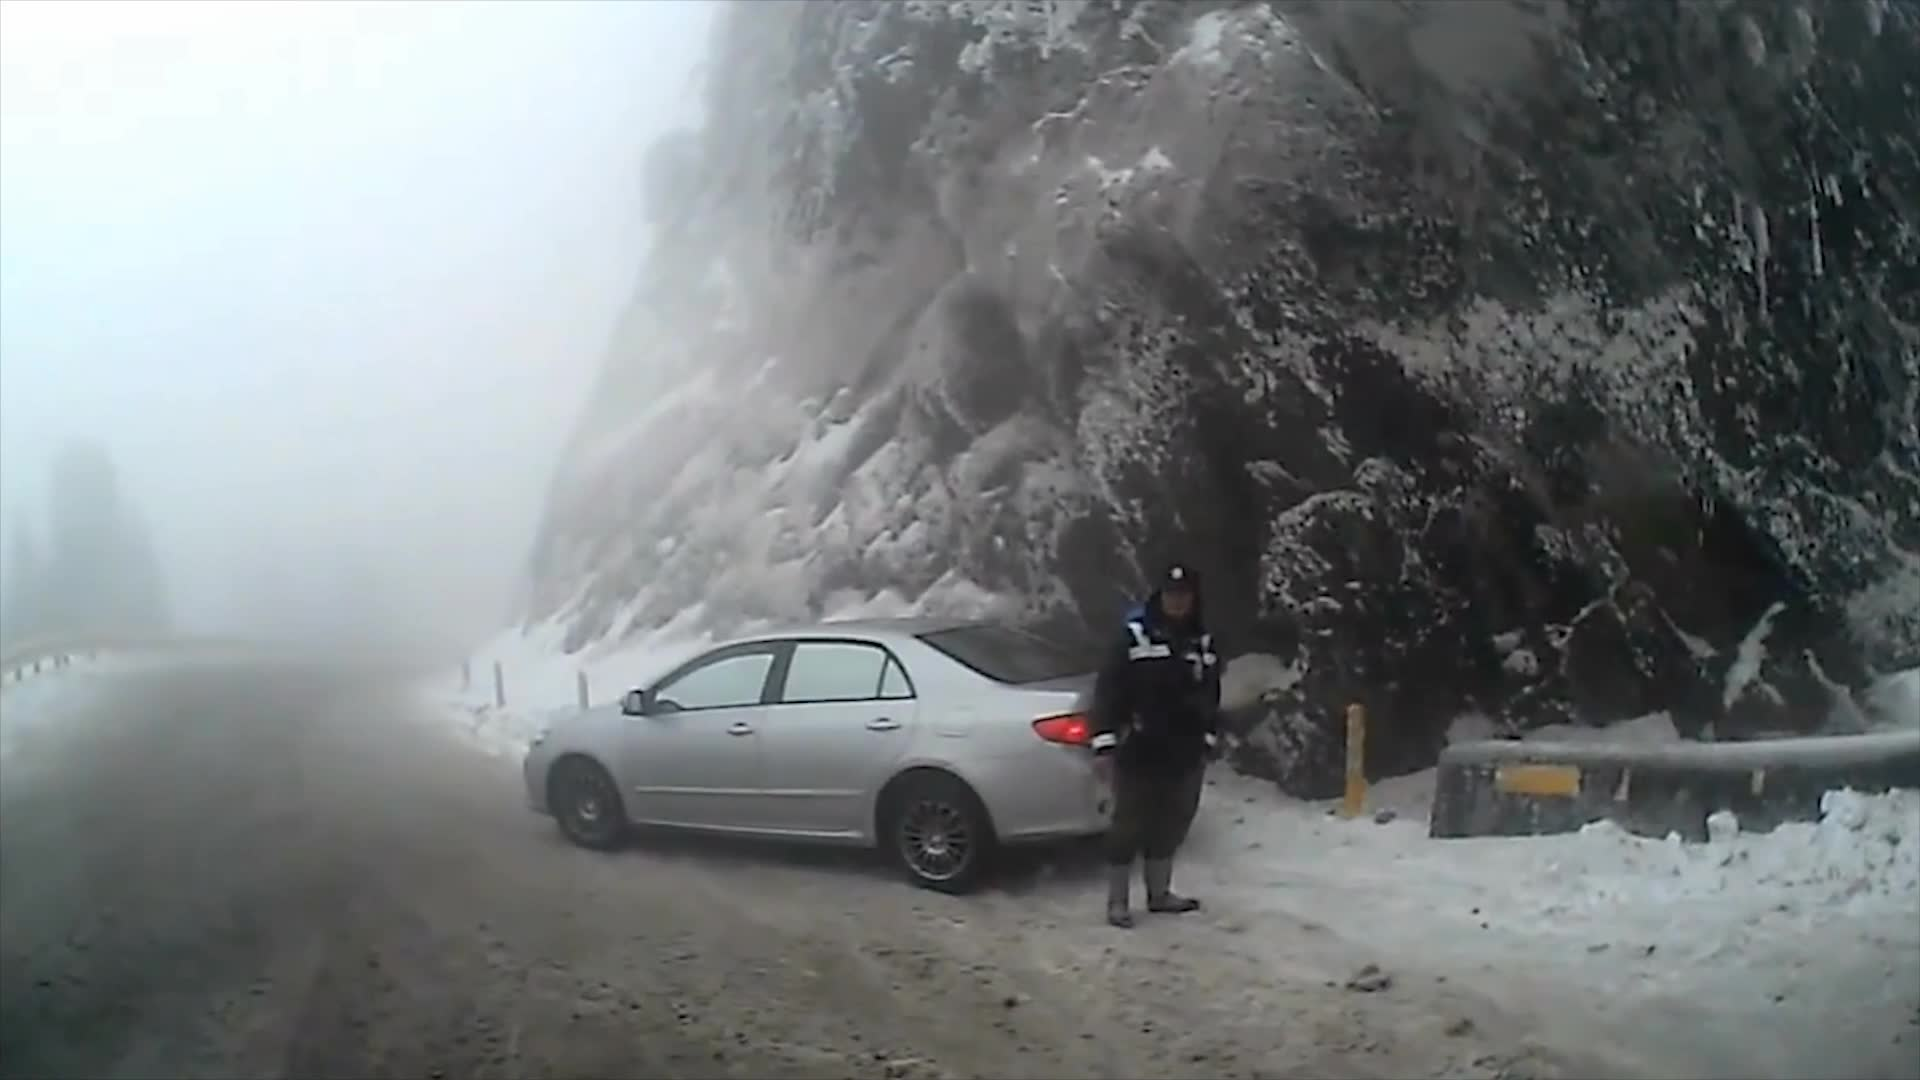pedestrian: (1085, 569, 1219, 933)
vehicle: (522, 616, 1214, 896)
